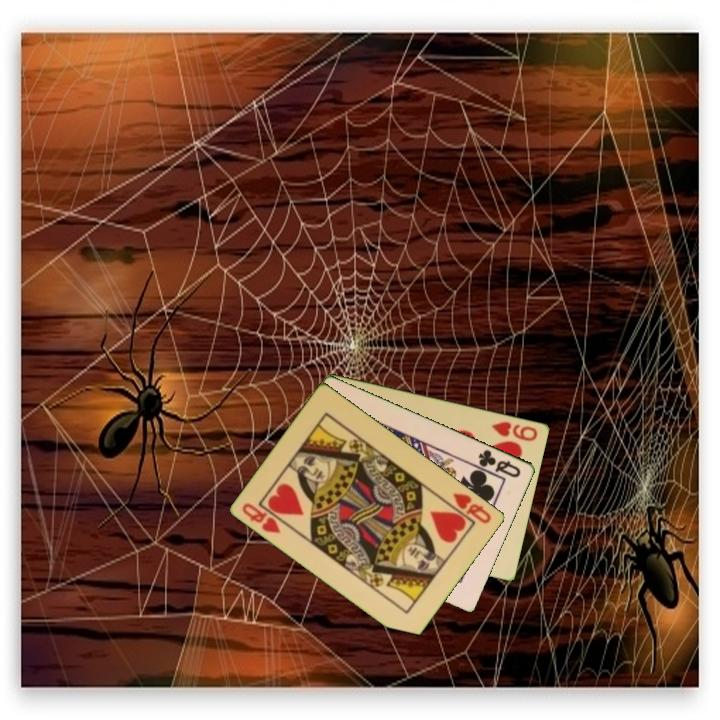9h: (488, 418, 541, 444)
Qc: (475, 446, 524, 480)
Qh: (449, 489, 494, 527), (239, 499, 284, 536)
